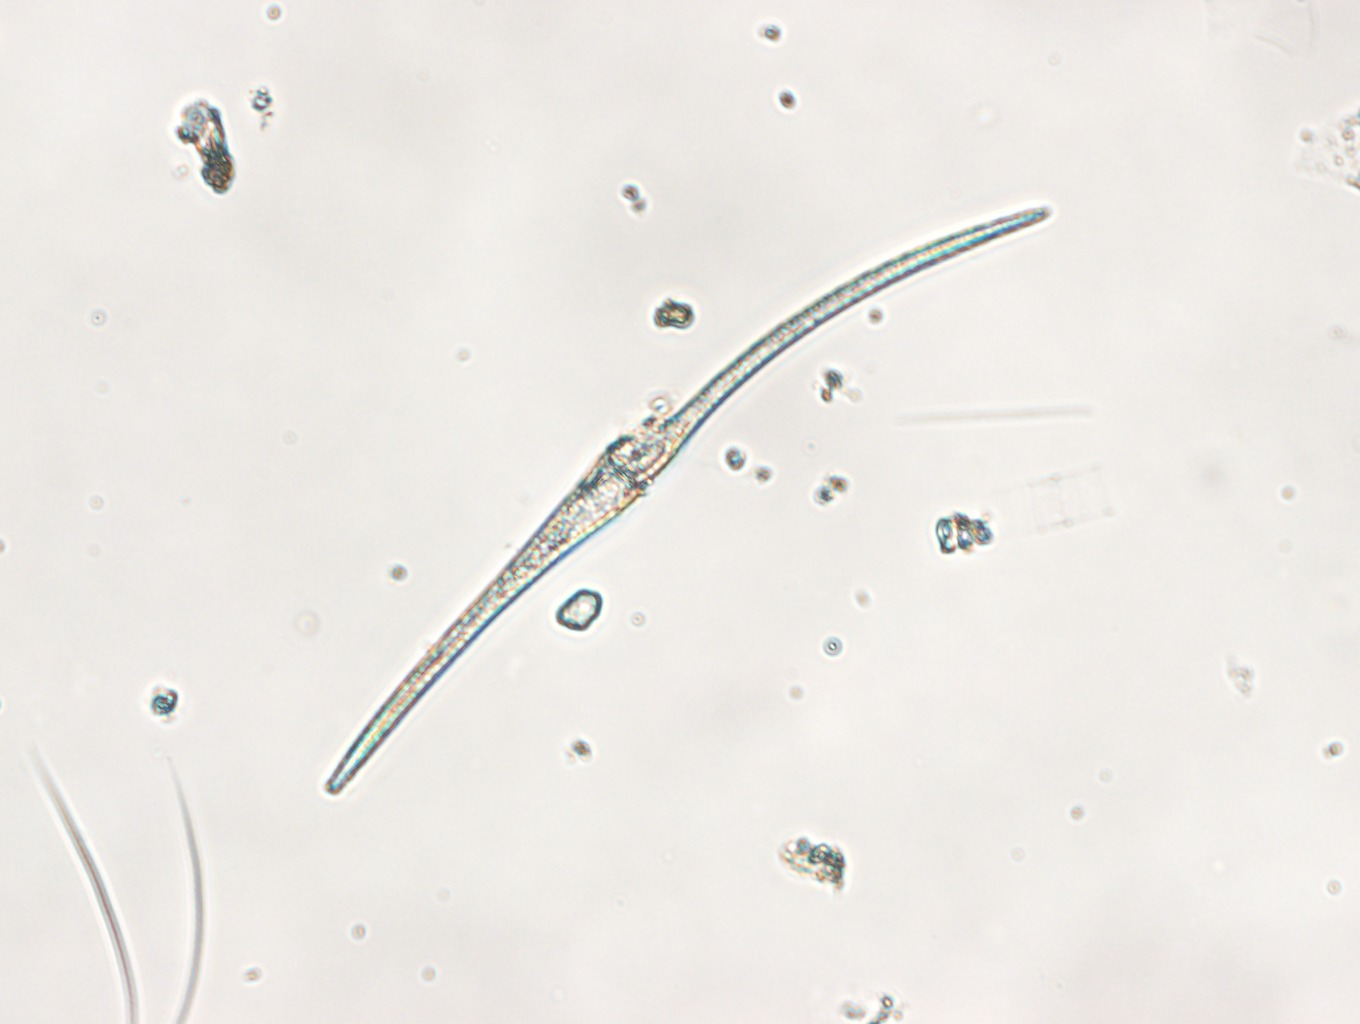ceratium fusus: (326, 203, 1054, 797)
